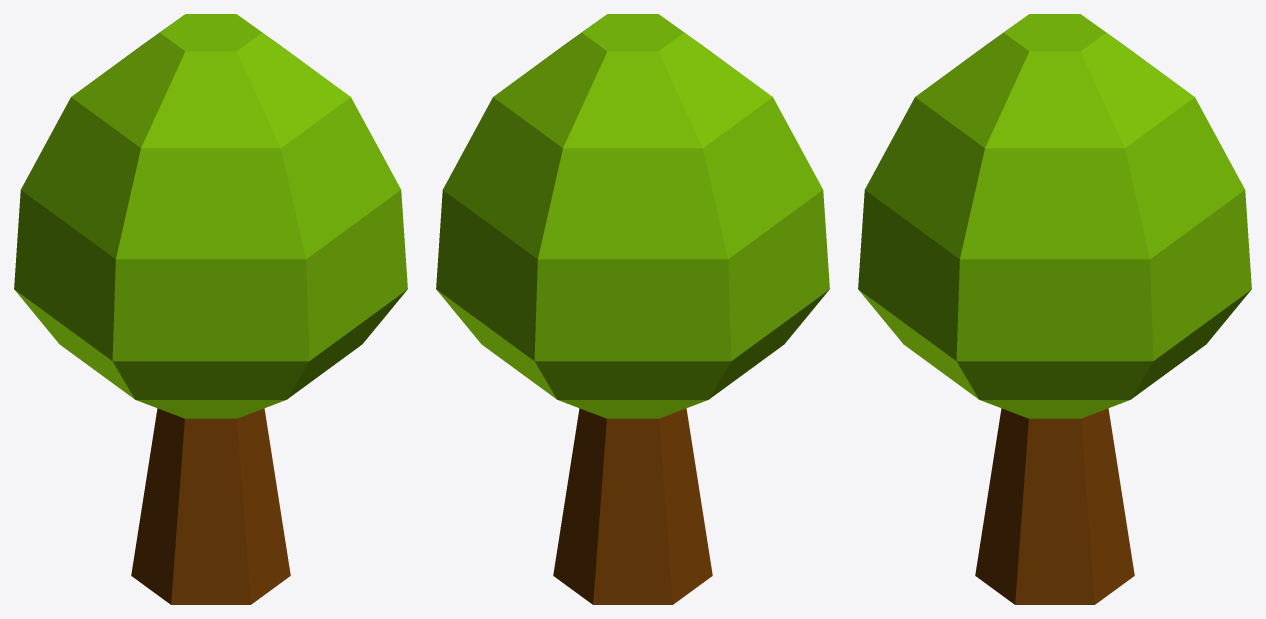
Rendered from prop_tree_small.glb.
3 views of the same model, side by side, from view 1: azimuth 30°, elevation 25°; view 2: azimuth 150°, elevation 25°; view 3: azimuth 270°, elevation 25° (orthographic).
Parts seen in each view (by area): view 1: tree2; view 2: tree2; view 3: tree2.
Boxes of the visible parts, <box> form: tree2: <box>14,14,407,604</box>; tree2: <box>436,14,829,604</box>; tree2: <box>858,14,1251,604</box>.
Bounding box in the file's own units: 4.27 × 7.51 × 4.94.
